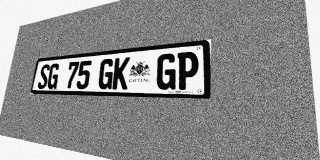5: (76, 60, 92, 89)
7: (64, 61, 80, 89)
G: (155, 53, 177, 90), (97, 58, 115, 89), (46, 63, 60, 89)
K: (112, 57, 130, 89)
P: (176, 51, 199, 90)
S: (37, 64, 50, 89)
